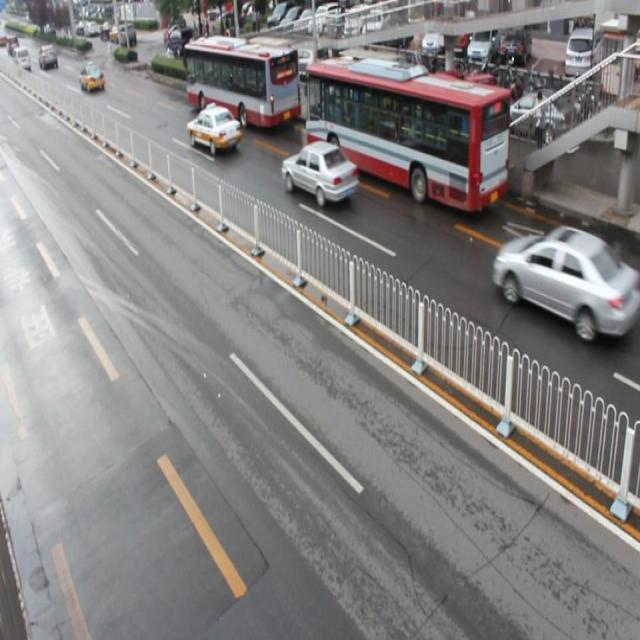car: (492, 224, 627, 341), (282, 138, 358, 206), (186, 102, 240, 154)
van: (306, 55, 507, 212), (185, 34, 299, 127)
